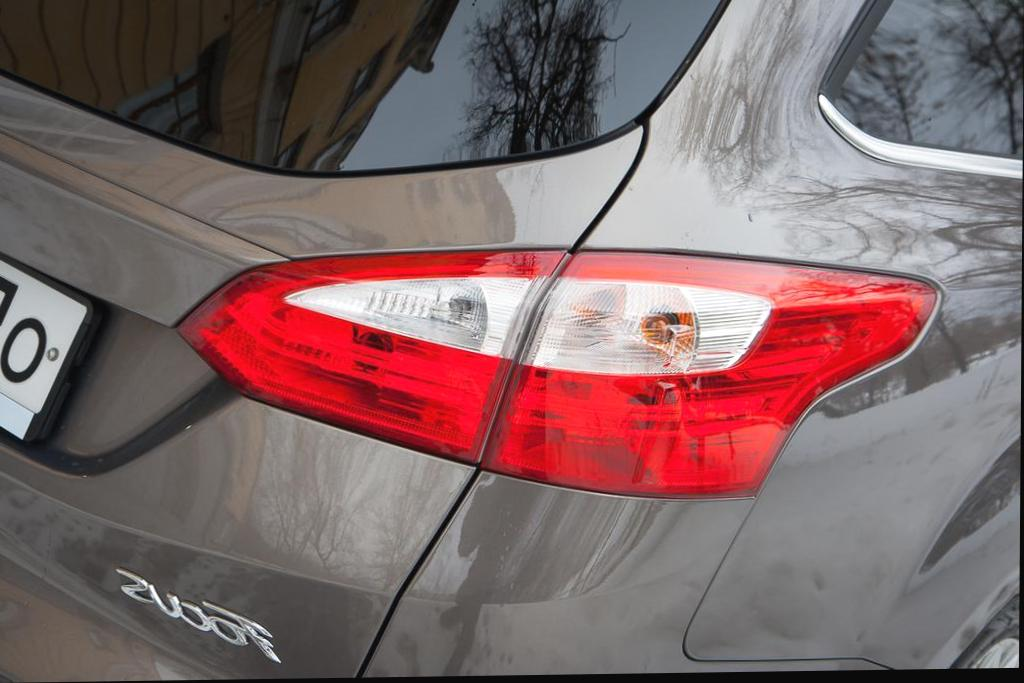License_Plate: (0, 252, 105, 452)
